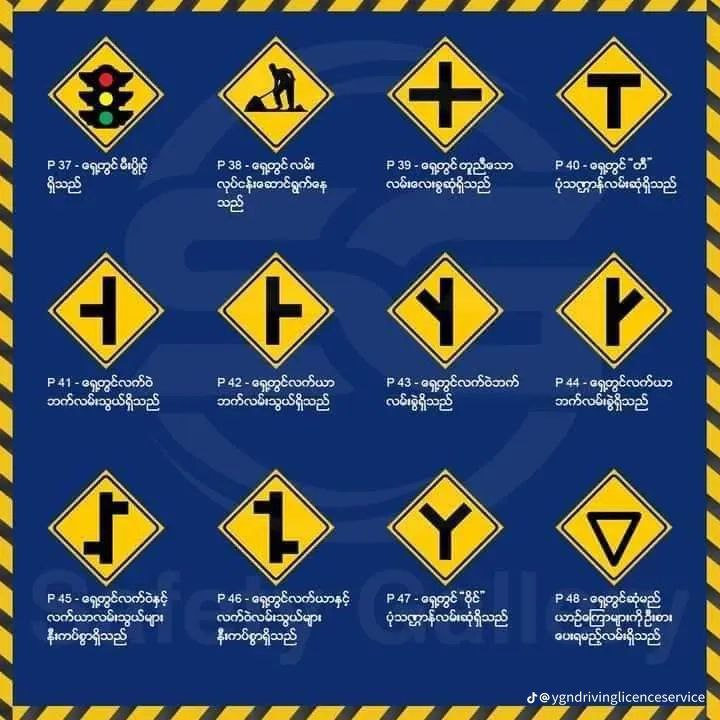Crossroad ahead: (368, 22, 525, 156)
Give way sign ahead: (542, 462, 684, 588)
Left fork ahead: (368, 238, 525, 372)
Right fork ahead: (544, 240, 683, 370)
Road construction ahead: (198, 28, 354, 156)
Side road on the left ahead: (26, 232, 183, 374)
Side road on the right ahead: (197, 235, 351, 370)
Staggered junction ahead left then right: (30, 457, 178, 591)
Staggered junction ahead right then left: (201, 457, 344, 588)
T-junction ahead: (534, 29, 687, 155)
Traffic light ahead: (30, 24, 180, 158)
Y-junction ahead: (374, 458, 514, 588)
